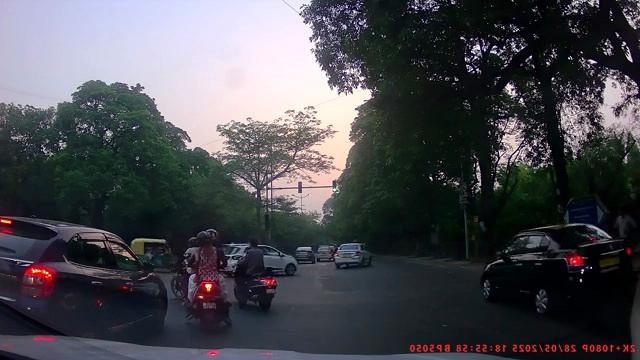passenger_with_helmet: (183, 228, 230, 331)
passenger_without_helmet: (233, 237, 277, 313)
